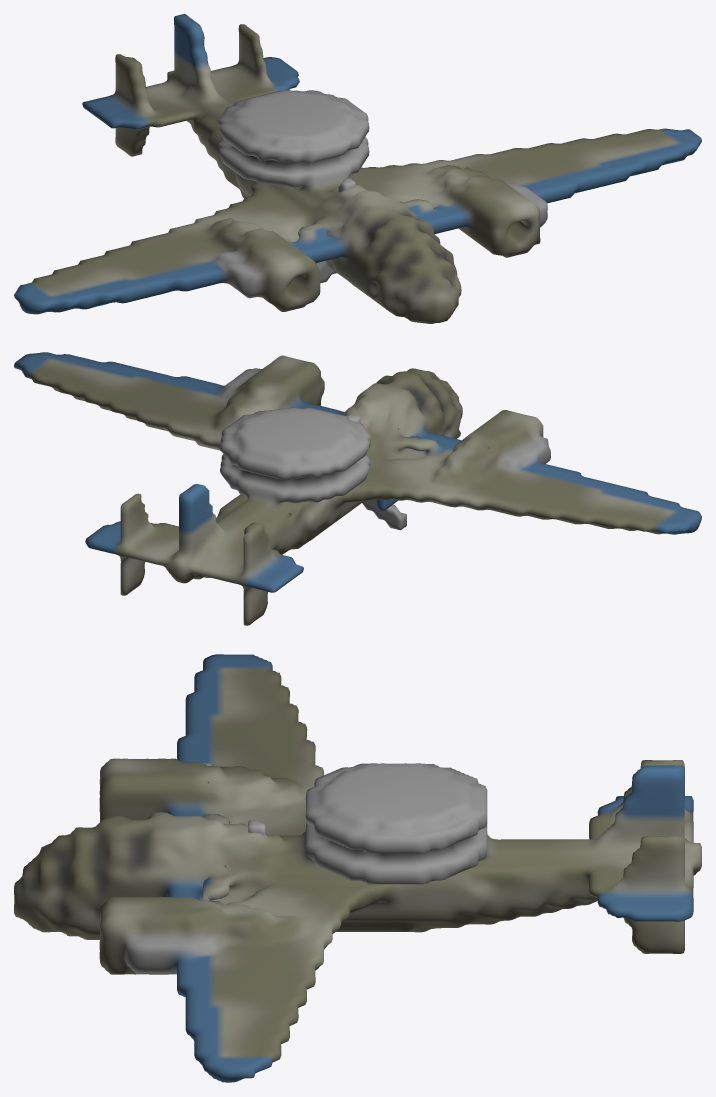
File: spy_plane.glb
3 views of the same model, one above another, from view 1: azimuth 30°, elevation 25°; view 2: azimuth 150°, elevation 25°; view 3: azimuth 270°, elevation 25° (orthographic). The views are drawn at different scales.
Parts seen in each view (by area): view 1: spy_plane; view 2: spy_plane; view 3: spy_plane.
Boxes of the visible parts, x1,y1,x2,y2 form: spy_plane: (14,14,701,323); spy_plane: (14,352,701,625); spy_plane: (14,654,701,1082).
Bounding box in the file's own units: 9.53 × 1.93 × 6.62.
